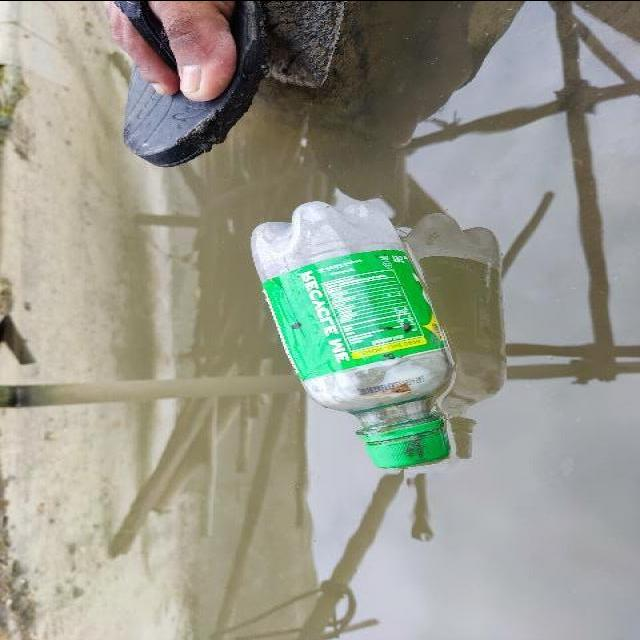Bottle: (240, 192, 464, 486)
